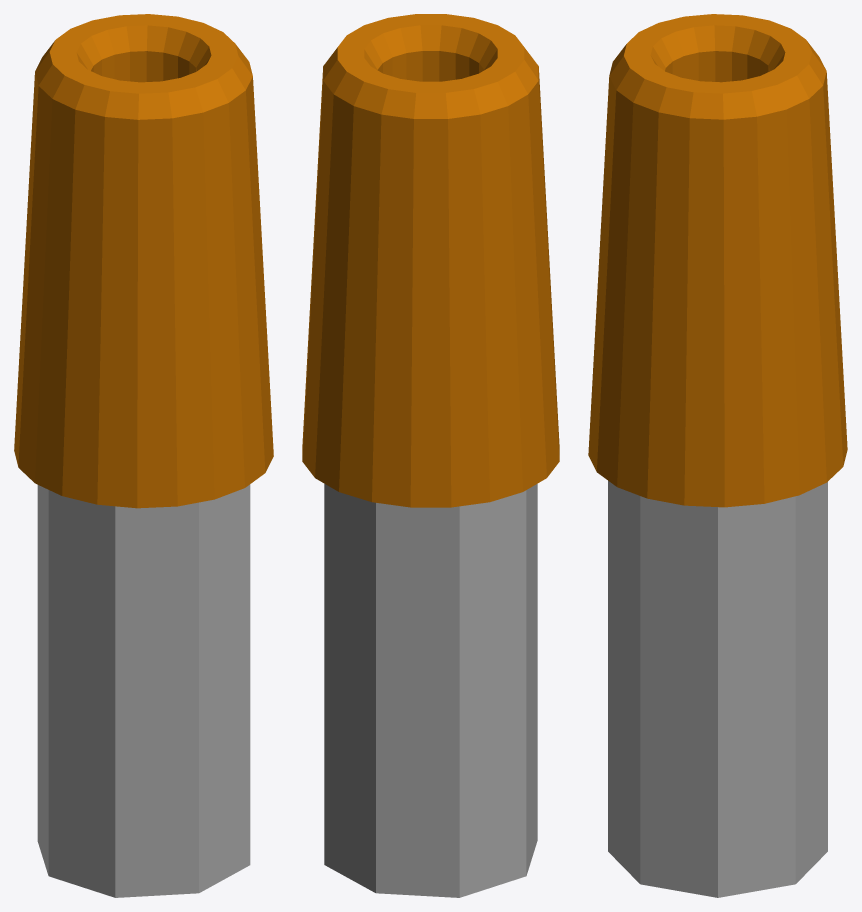
File: R5_nozle_joint_0820.dae
The picture shows the model from 3 angles, left to right: view 1: azimuth 30°, elevation 25°; view 2: azimuth 150°, elevation 25°; view 3: azimuth 270°, elevation 25°; orthographic projection.
Parts seen in each view (by area): view 1: Group2, Group3; view 2: Group2, Group3; view 3: Group2, Group3.
Part boxes in pixels (x1,y1,x2,y2): Group2: [14, 14, 273, 508]; Group3: [37, 484, 250, 897]; Group2: [302, 14, 559, 507]; Group3: [324, 484, 537, 897]; Group2: [588, 14, 847, 507]; Group3: [608, 481, 827, 897].
Bounding box in the file's own units: 0.0589 × 0.0589 × 0.2.
